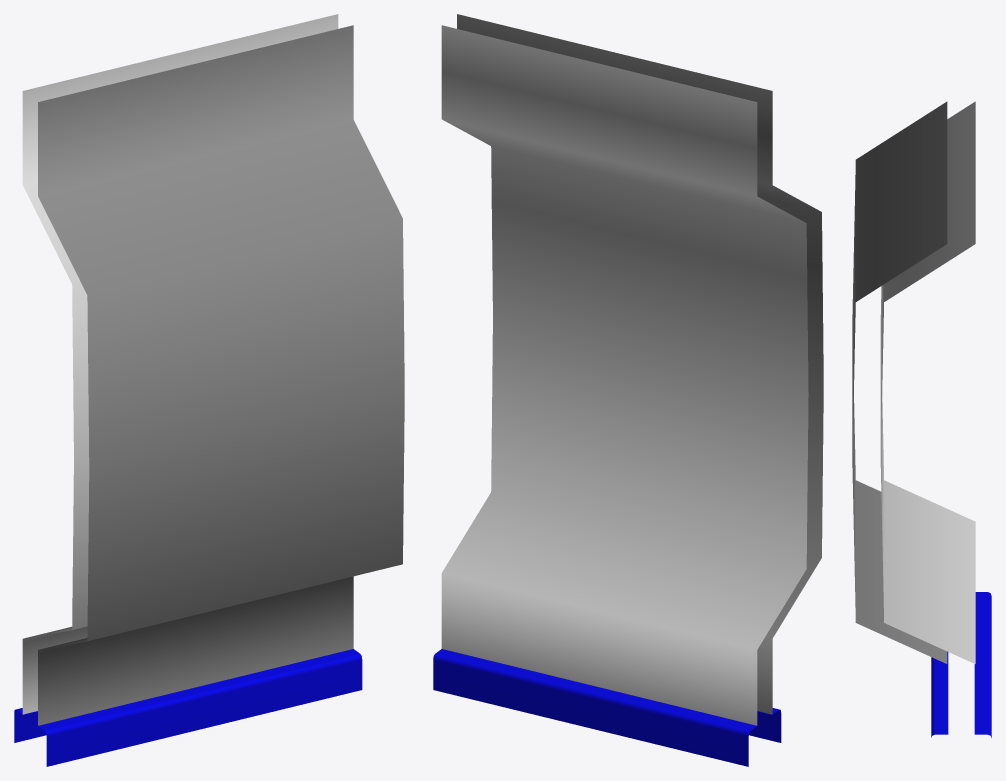
The model's file is HalfVertWallBevled.fbx.
The picture shows the model from 3 angles, left to right: view 1: azimuth 30°, elevation 25°; view 2: azimuth 150°, elevation 25°; view 3: azimuth 270°, elevation 25°; orthographic projection. The views are drawn at different scales.
Parts seen in each view (by area): view 1: Wall, Trim; view 2: Wall, Trim; view 3: Wall, Trim.
Part boxes in pixels (box(x1,y1,x2,y2)): Wall: box(22, 14, 404, 725); Trim: box(14, 649, 362, 766); Wall: box(441, 14, 823, 725); Trim: box(433, 649, 781, 766); Wall: box(852, 101, 975, 663); Trim: box(931, 592, 991, 737).
Size of the model in its own units: 6 by 11.97 by 2.47.
